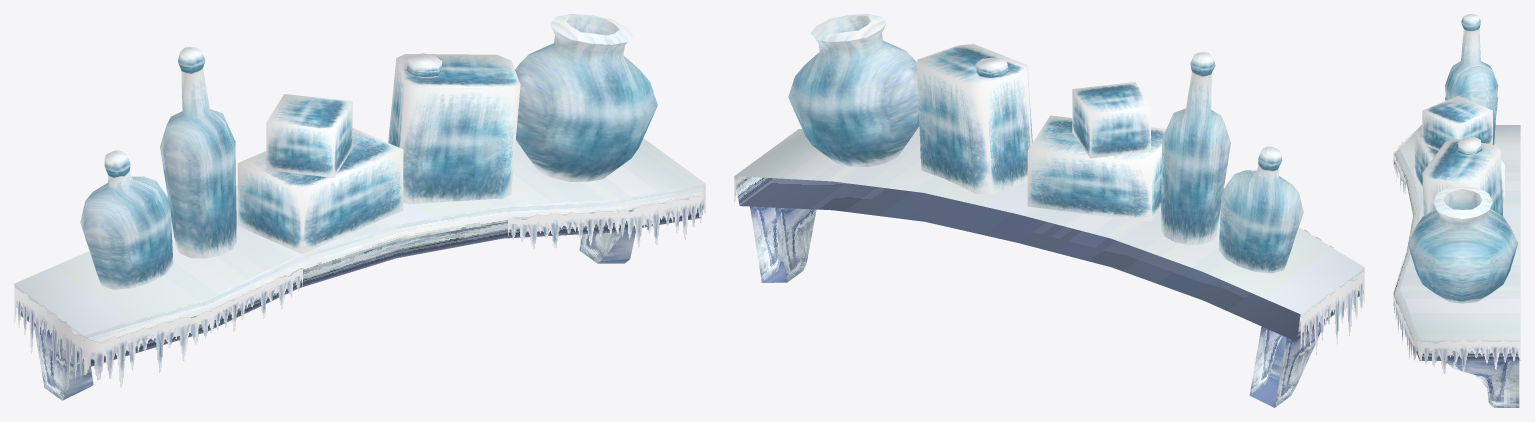
File: a_shel_1-2.glb
The picture shows the model from 3 angles, left to right: view 1: azimuth 30°, elevation 25°; view 2: azimuth 150°, elevation 25°; view 3: azimuth 270°, elevation 25°; orthographic projection. The views are drawn at different scales.
Parts seen in each view (by area): view 1: a_shel_1; view 2: a_shel_1; view 3: a_shel_1.
Boxes of the visible parts, x1,y1,x2,y2 form: a_shel_1: [14, 14, 705, 400]; a_shel_1: [734, 14, 1364, 407]; a_shel_1: [1393, 14, 1520, 407].
Bounding box in the file's own units: 382 × 196 × 96.
Materials: 4 (4 with a texture image).
